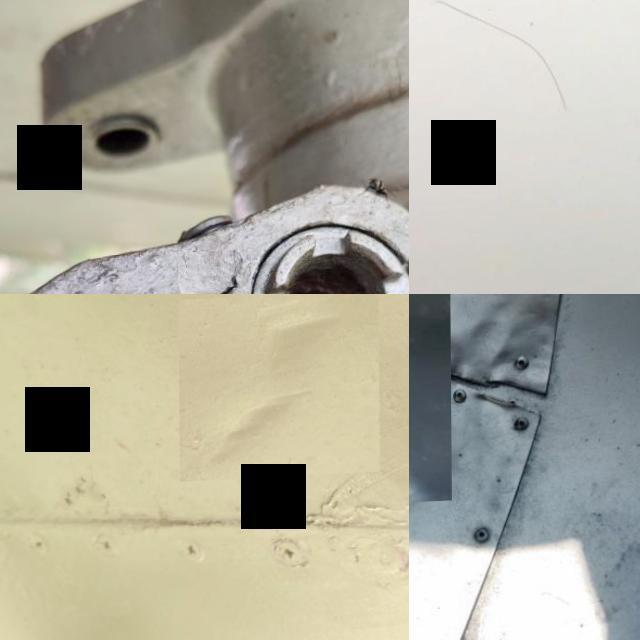Crack: (416, 356, 558, 451), (177, 252, 250, 294)
Dent: (178, 294, 380, 484)
